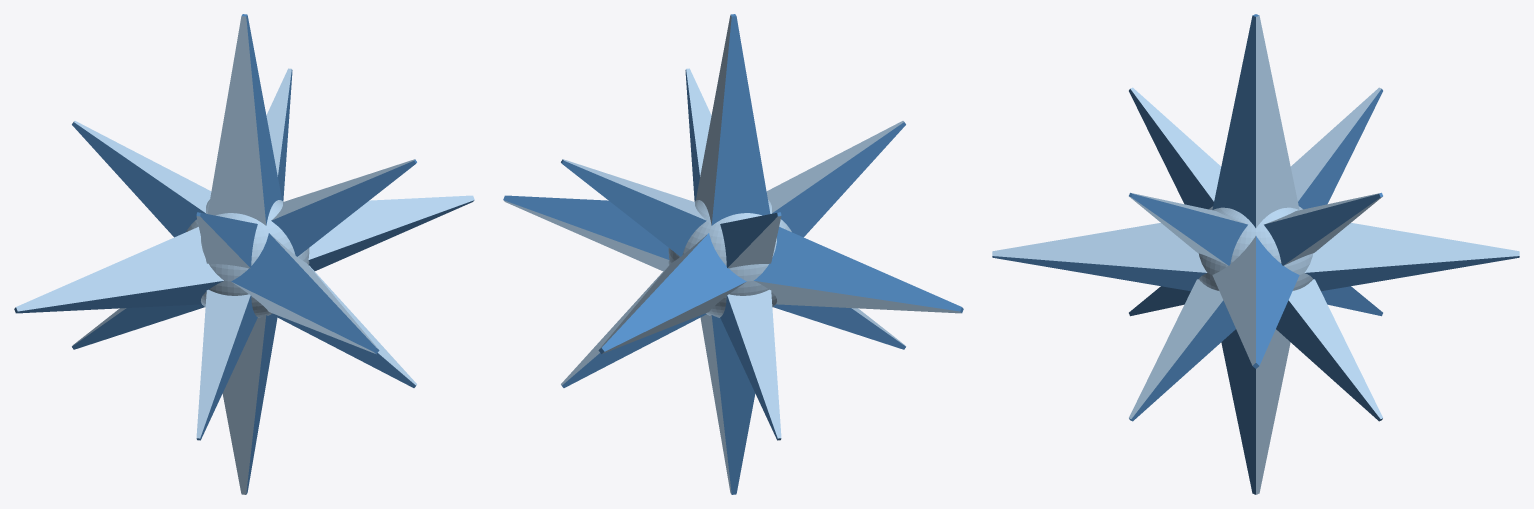
The model's file is polaris-2.glb.
The picture shows the model from 3 angles, left to right: view 1: azimuth 30°, elevation 25°; view 2: azimuth 150°, elevation 25°; view 3: azimuth 270°, elevation 25°; orthographic projection.
Visible parts, largest first — view 1: Plane.012, Plane.009, Plane.008, Plane.010, Sphere.001; view 2: Plane.012, Plane.009, Plane.008, Plane.010, Sphere.001; view 3: Plane.012, Plane.010, Plane.008, Plane.009, Sphere.001.
Part boxes in pixels (x1,y1,x2,y2): Plane.012: (72,68,416,440); Plane.009: (14,195,474,313); Plane.008: (207,14,282,494); Plane.010: (231,233,379,354); Sphere.001: (186,199,309,317); Plane.012: (561,68,905,440); Plane.009: (503,195,963,313); Plane.008: (695,14,770,494); Plane.010: (598,233,746,354); Sphere.001: (668,199,791,317); Plane.012: (1129,87,1382,421); Plane.010: (992,223,1519,291); Plane.008: (1212,14,1299,494); Plane.009: (1212,236,1299,368); Sphere.001: (1198,206,1313,290).
Bounding box in the file's own units: 4.02 × 4.02 × 4.02.
